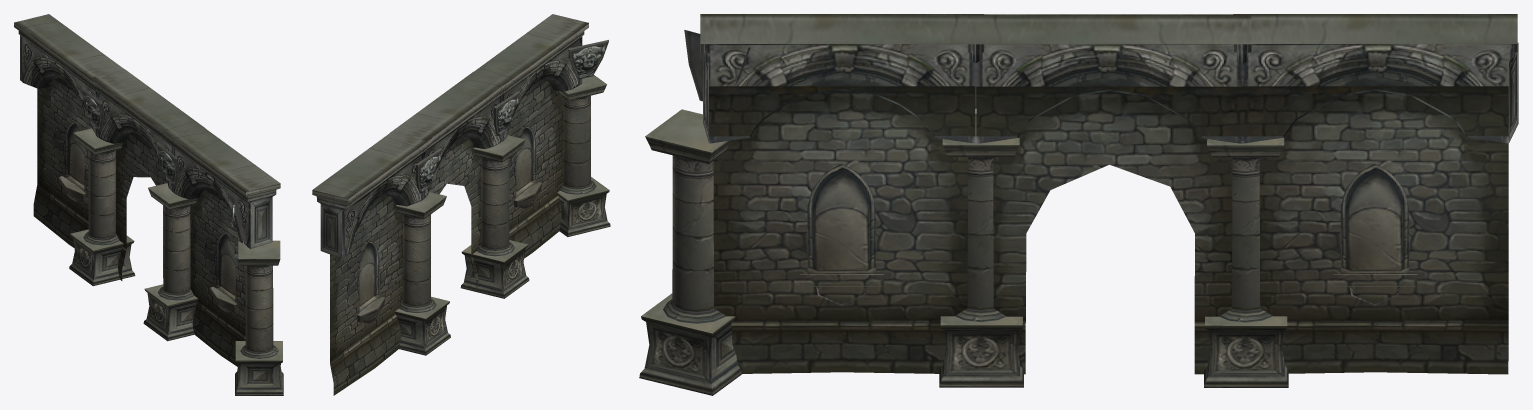
3 renders of one model, left to right at view 1: azimuth 30°, elevation 25°; view 2: azimuth 150°, elevation 25°; view 3: azimuth 270°, elevation 25°, orthographic. The views are drawn at different scales.
Visible parts, largest first — view 1: DN_1_4_dt01a, Object008, Object020; view 2: DN_1_4_dt01a, Object008, Object020; view 3: DN_1_4_dt01a, Object008, Object020.
Boxes of the visible parts, x1,y1,x2,y2 form: DN_1_4_dt01a: [14, 14, 280, 366]; Object008: [90, 69, 204, 280]; Object020: [235, 240, 283, 395]; DN_1_4_dt01a: [312, 14, 608, 395]; Object008: [390, 71, 509, 291]; Object020: [557, 75, 610, 236]; DN_1_4_dt01a: [684, 14, 1518, 387]; Object008: [967, 14, 1251, 374]; Object020: [639, 109, 741, 395].
Size of the model in its own units: 199 by 651 by 1498.
